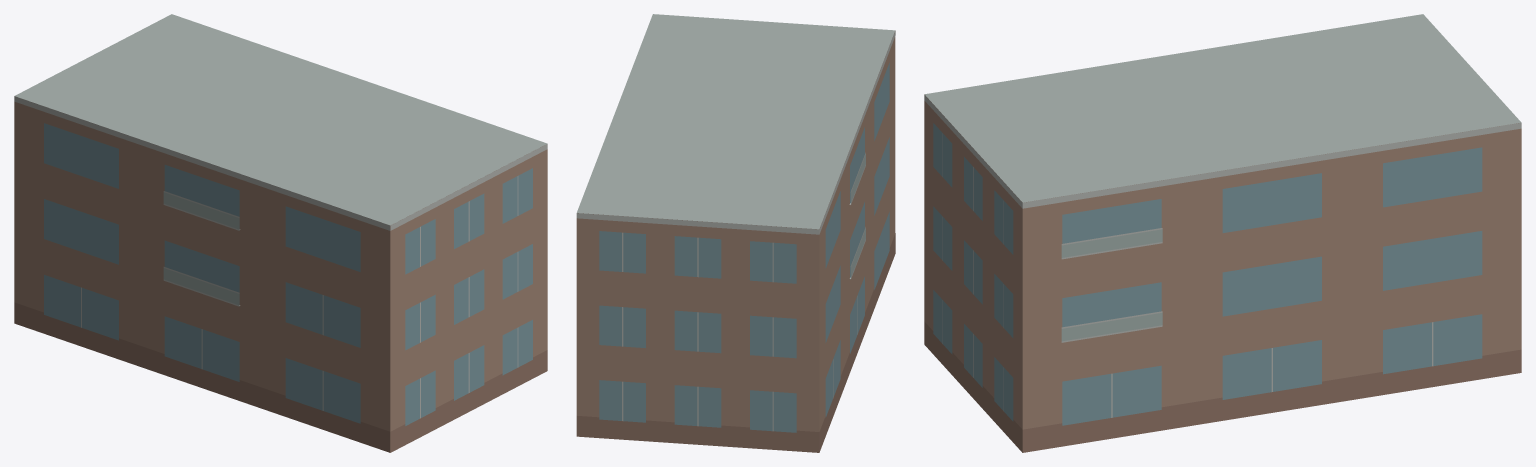
Rendered from survey-upis-32802346.glb.
The picture shows the model from 3 angles, left to right: view 1: azimuth 30°, elevation 25°; view 2: azimuth 150°, elevation 25°; view 3: azimuth 270°, elevation 25°; orthographic projection. The views are drawn at different scales.
Parts seen in each view (by area): view 1: survey-upis-32802346.tmp; view 2: survey-upis-32802346.tmp; view 3: survey-upis-32802346.tmp.
Boxes of the visible parts, bbox=[...] form: survey-upis-32802346.tmp: bbox=[14, 14, 547, 452]; survey-upis-32802346.tmp: bbox=[576, 14, 895, 452]; survey-upis-32802346.tmp: bbox=[924, 14, 1521, 452].
Size of the model in its own units: 16.34 by 10.1 by 21.86.
